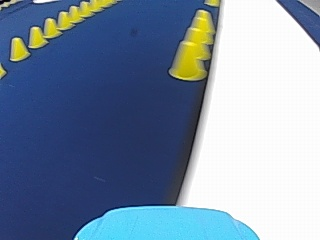cone: (167, 31, 207, 80), (179, 10, 215, 60), (186, 10, 216, 39), (9, 36, 30, 60), (28, 26, 46, 48), (192, 42, 211, 60), (43, 17, 58, 37), (56, 10, 71, 29), (66, 5, 80, 23), (78, 1, 90, 16)
